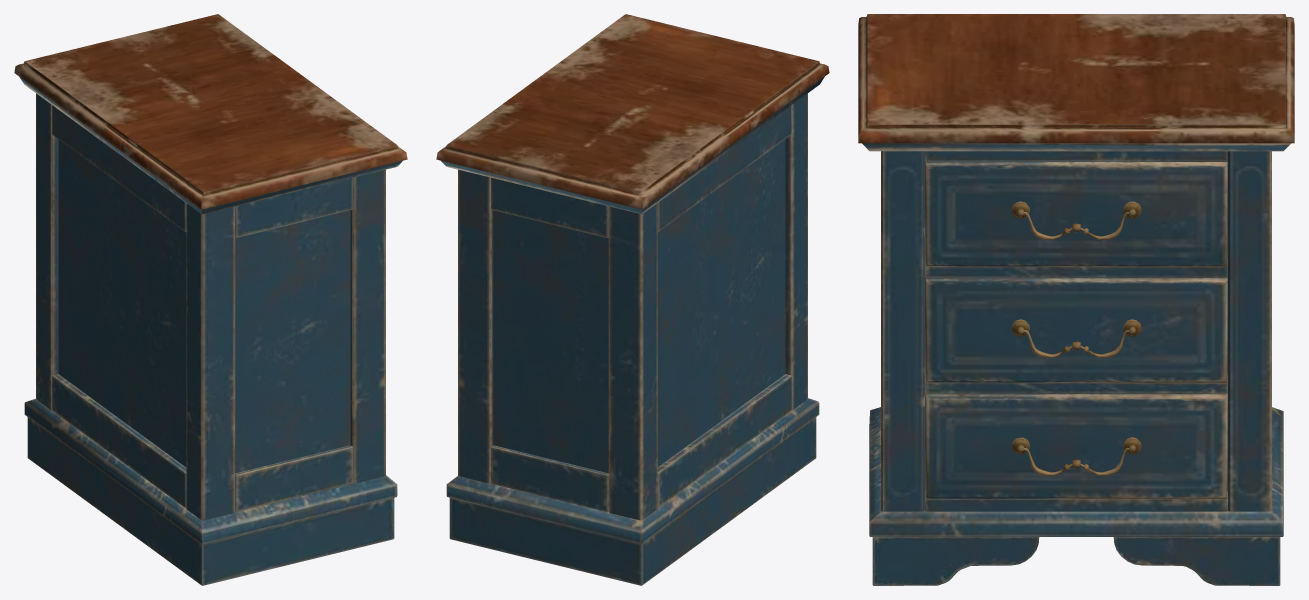
File: p_dresser.glb
3 renders of one model, left to right at view 1: azimuth 30°, elevation 25°; view 2: azimuth 150°, elevation 25°; view 3: azimuth 270°, elevation 25°, orthographic. The views are drawn at different scales.
Visible parts, largest first — view 1: Base_low, Top_low, WoodPie_low, Bottom02_low, Bottom01_low; view 2: Base_low, Top_low, WoodPie_low, Bottom02_low, Bottom01_low; view 3: Draw_low, Top_low, Base_low, WoodPie_low, Bottom01_low, Bottom02_low, Handle_low, HandlePie_low.
Boxes of the visible parts, x1,y1,x2,y2 form: Base_low: [36, 93, 385, 520]; Top_low: [14, 14, 407, 214]; WoodPie_low: [52, 105, 352, 512]; Bottom02_low: [27, 417, 394, 585]; Bottom01_low: [24, 398, 397, 544]; Base_low: [458, 93, 807, 520]; Top_low: [436, 14, 829, 214]; WoodPie_low: [491, 105, 791, 512]; Bottom02_low: [449, 417, 816, 585]; Bottom01_low: [446, 398, 819, 544]; Draw_low: [925, 162, 1227, 498]; Top_low: [858, 14, 1294, 151]; Base_low: [881, 151, 1271, 511]; WoodPie_low: [925, 151, 1227, 511]; Bottom01_low: [869, 407, 1283, 536]; Bottom02_low: [872, 537, 1280, 585]; Handle_low: [1023, 212, 1129, 476]; HandlePie_low: [1011, 201, 1141, 454].
Size of the model in its own units: 0.7344 by 1.33 by 1.14.
Materials: 1 (1 with a texture image).
